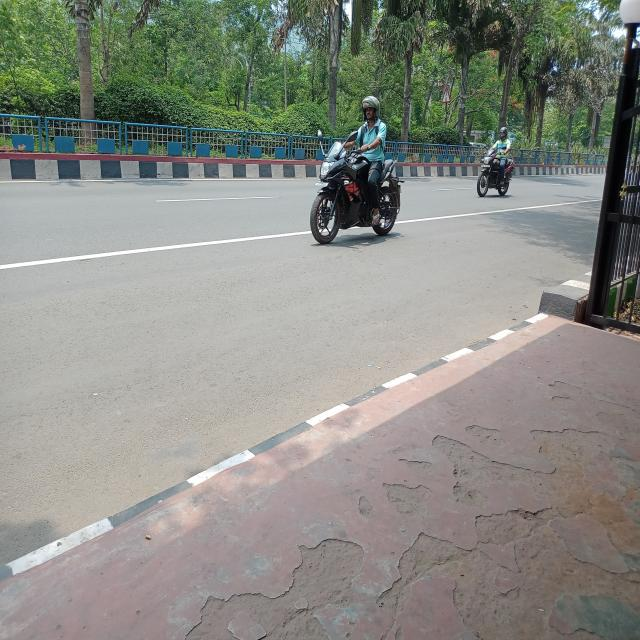bike: (300, 136, 430, 257), (472, 150, 520, 203)
